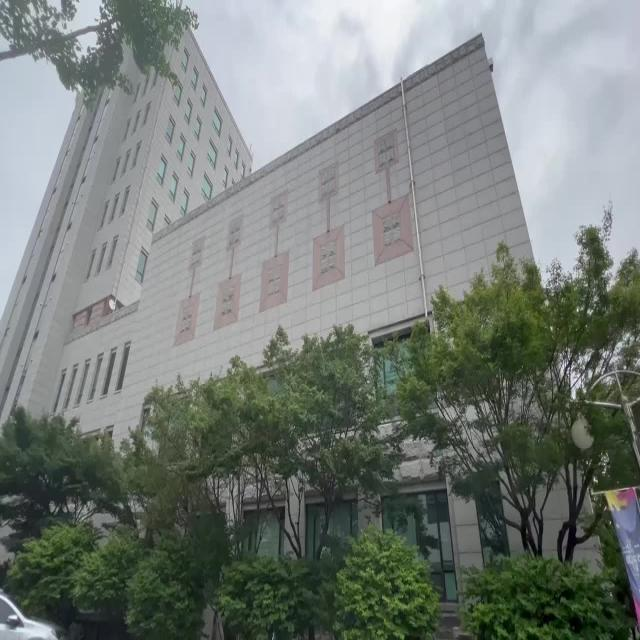building: (44, 61, 406, 355)
